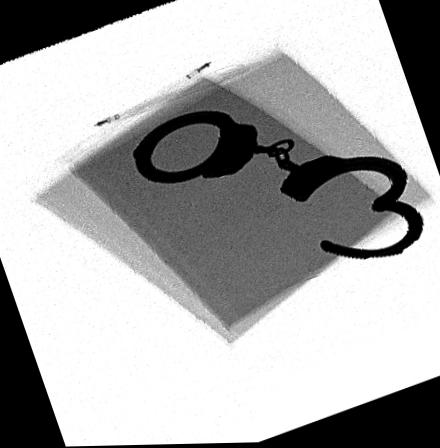HandCuffs: (130, 111, 422, 261)
